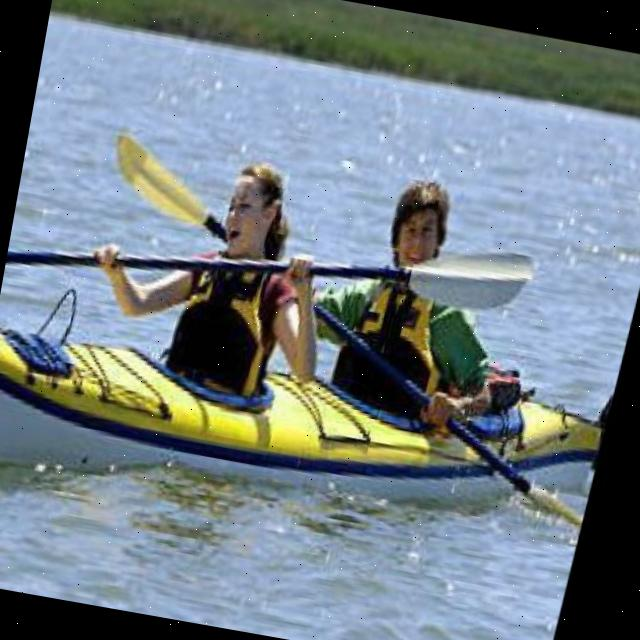kayak: (0, 326, 612, 521), (413, 252, 533, 301)
